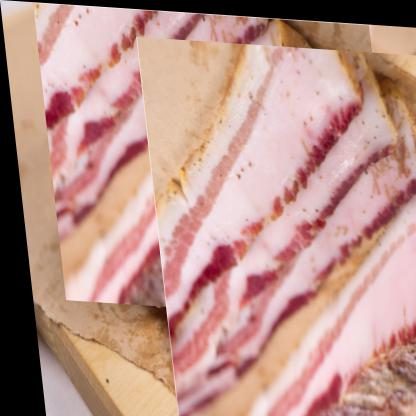cooked_meat: (32, 2, 396, 318), (135, 33, 415, 415)
